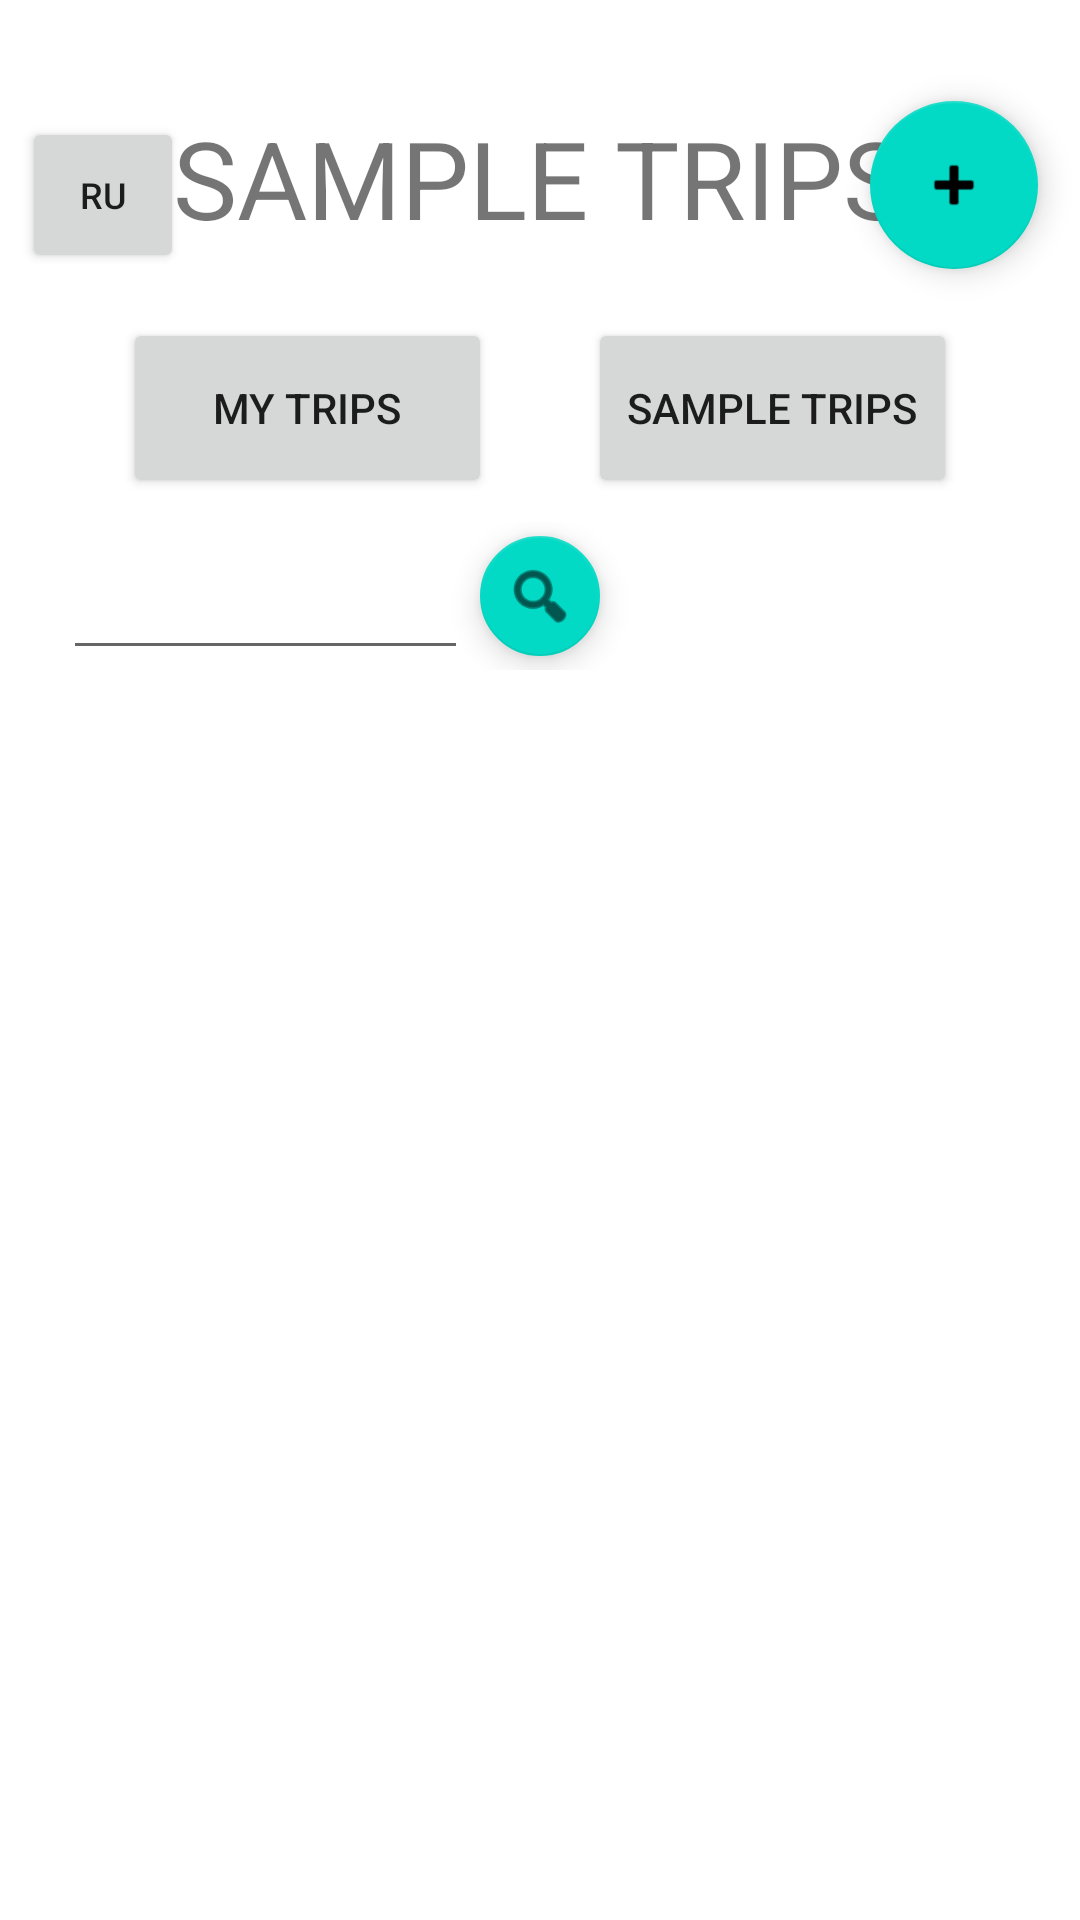

Where to tap for icons on this 1080 x 1920 app screen, as point (x, y):
add: point (954, 185)
search: point (540, 597)
